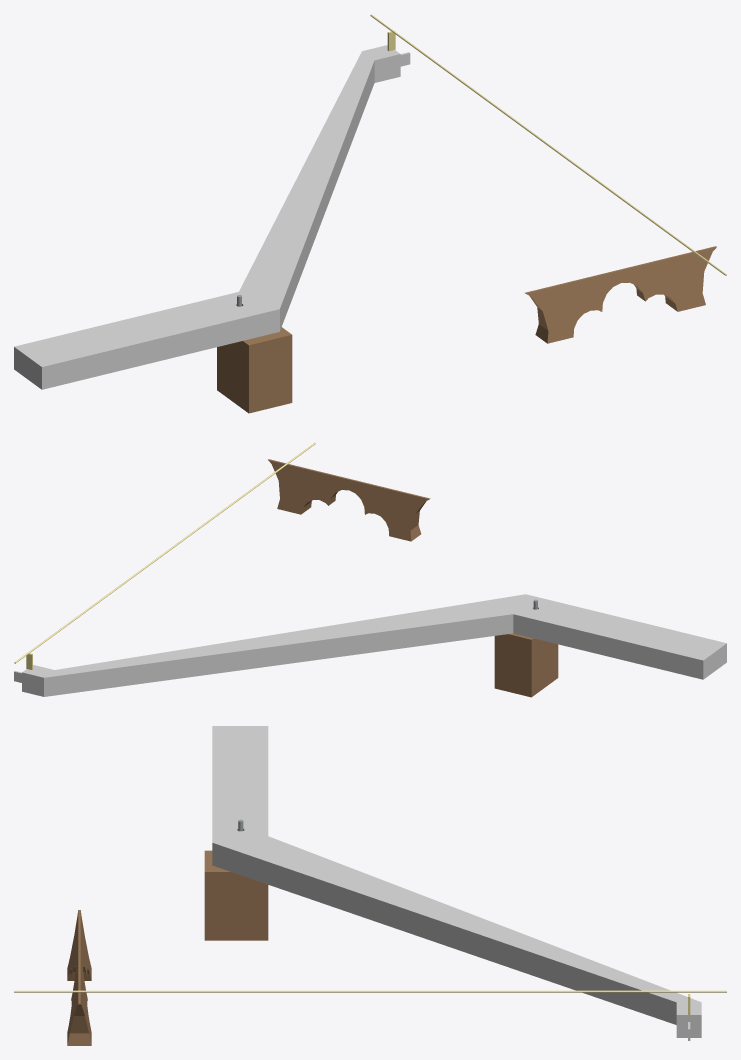
The model's file is clavichord_action_diagram.glb.
The picture shows the model from 3 angles, top to bottom: view 1: azimuth 30°, elevation 25°; view 2: azimuth 150°, elevation 25°; view 3: azimuth 270°, elevation 25°; orthographic projection. The views are drawn at different scales.
Bounding box in the file's own units: 280 × 50.79 × 283.
